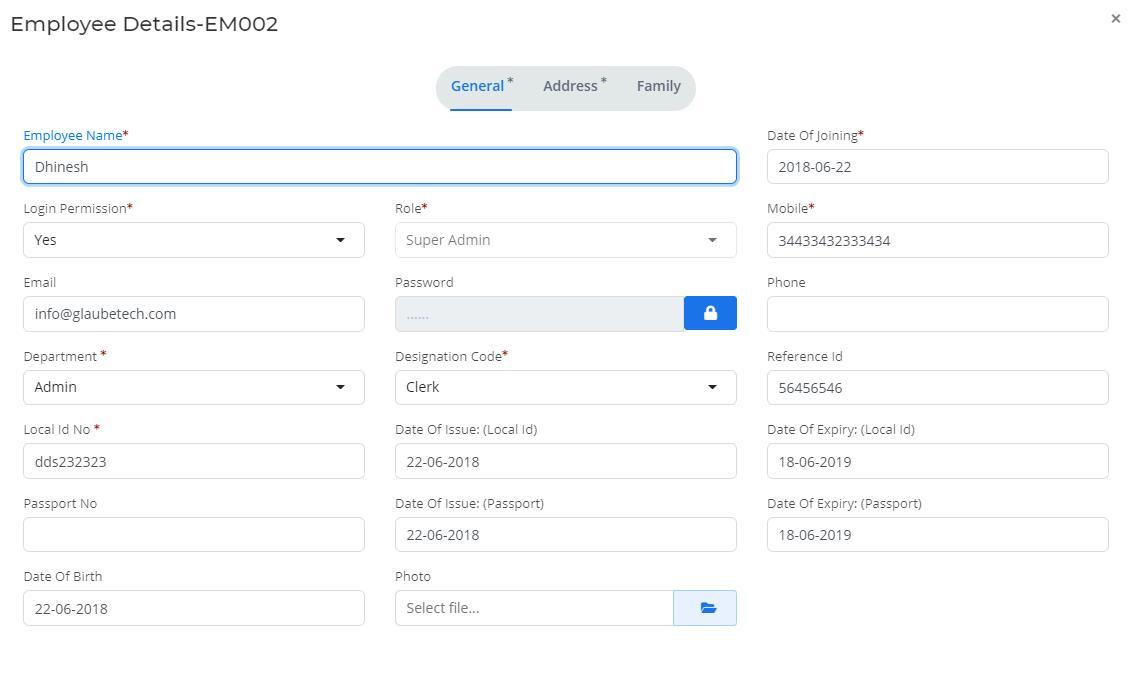button: (448, 67, 514, 113)
dropdown: (23, 222, 364, 260), (397, 369, 738, 407), (27, 369, 366, 407), (397, 224, 737, 258)
icon: (691, 597, 727, 621), (697, 302, 726, 326), (1110, 15, 1125, 26)
input: (24, 149, 738, 186), (25, 442, 366, 481), (770, 369, 1109, 407), (24, 518, 367, 555), (25, 297, 365, 334), (769, 149, 1109, 186), (399, 517, 737, 553), (395, 444, 736, 479), (769, 445, 1110, 480), (767, 516, 1112, 550), (767, 298, 1111, 332), (769, 223, 1112, 256), (26, 594, 368, 626), (396, 297, 684, 333), (397, 591, 674, 627)
label: (9, 11, 285, 38), (762, 418, 921, 441), (764, 495, 927, 516), (392, 495, 549, 515), (393, 345, 510, 367), (393, 422, 543, 438), (20, 126, 135, 146), (17, 200, 138, 217), (766, 128, 867, 148), (769, 346, 851, 368), (22, 347, 110, 367), (21, 421, 109, 441), (538, 75, 612, 98), (22, 494, 102, 512), (25, 571, 109, 588), (766, 272, 820, 298), (395, 273, 458, 295), (766, 196, 819, 217), (636, 77, 685, 97), (395, 567, 440, 588), (394, 196, 435, 219), (23, 274, 65, 294)
